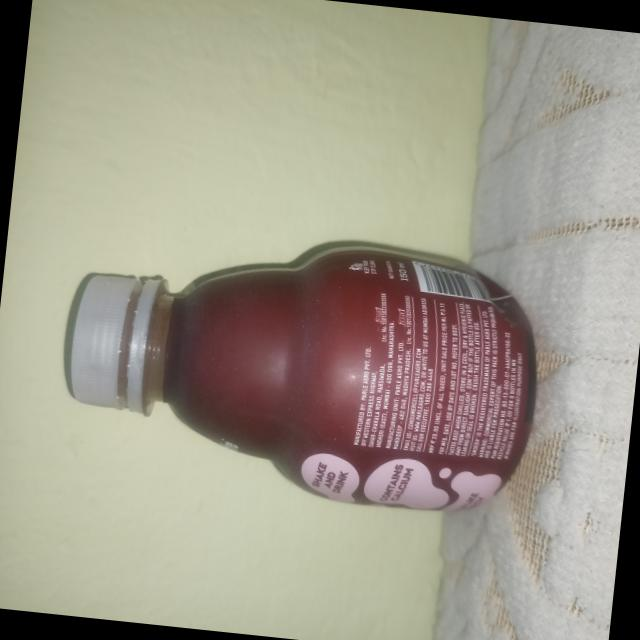plastic_bottle: (46, 197, 564, 536)
